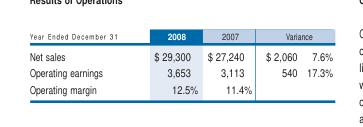table: (28, 29, 332, 96)
table column: (28, 29, 135, 96), (135, 29, 201, 96), (201, 29, 258, 96), (258, 29, 301, 96), (301, 29, 332, 96)
table column header: (28, 29, 332, 64)
table row: (28, 44, 332, 64), (28, 64, 332, 80), (28, 80, 332, 96), (28, 29, 332, 44)
table spanning cell: (28, 29, 135, 64), (135, 29, 201, 64), (201, 29, 258, 64), (258, 29, 332, 44)
